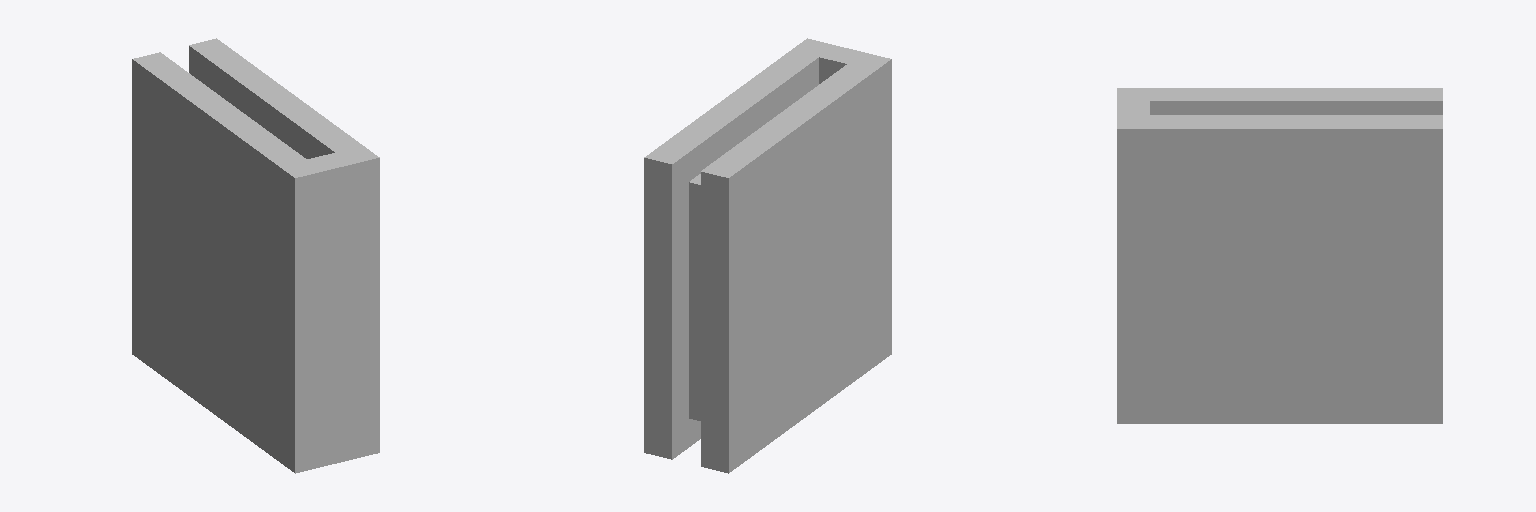
File: book3.vox.obj
3 renders of one model, left to right at view 1: azimuth 30°, elevation 25°; view 2: azimuth 150°, elevation 25°; view 3: azimuth 270°, elevation 25°, orthographic.
Parts seen in each view (by area): view 1: object 1; view 2: object 1; view 3: object 1.
Boxes of the visible parts, box(x1,y1,x2,y2) form: object 1: box(132, 38, 379, 473); object 1: box(644, 38, 891, 473); object 1: box(1117, 88, 1442, 423).
Bounding box in the file's own units: 0.3 × 1 × 1.